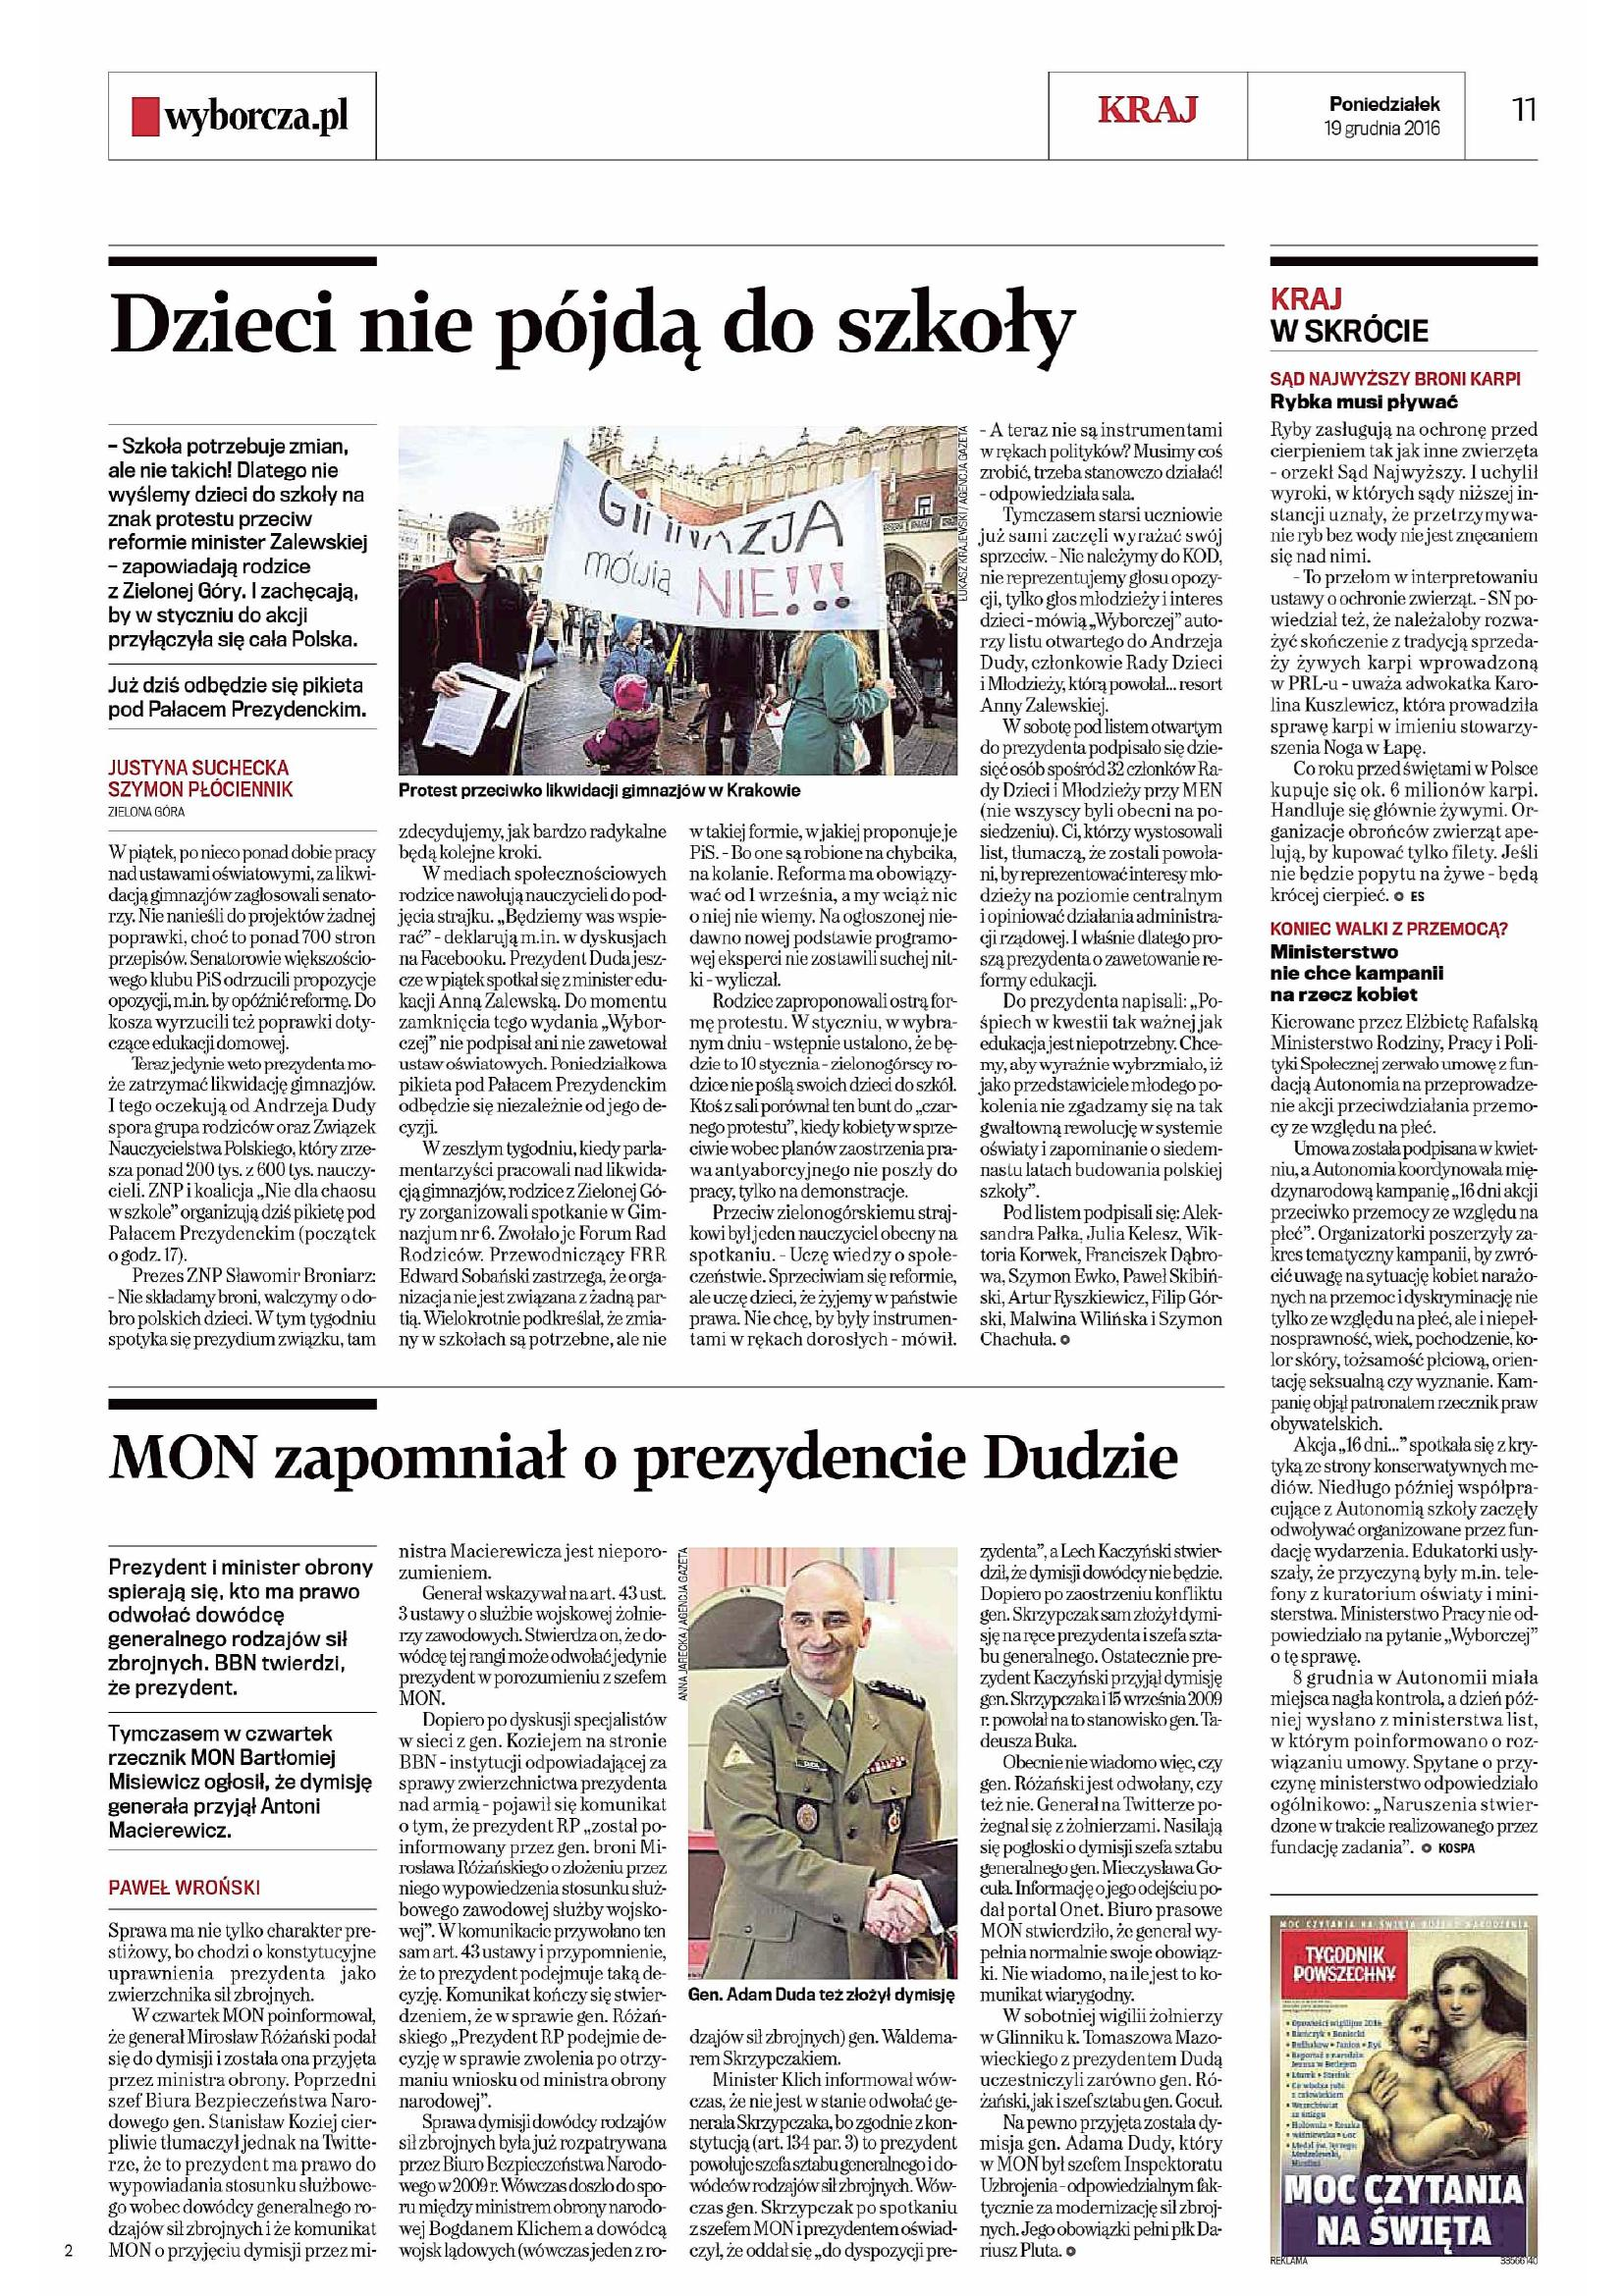article: (98, 248, 1228, 1362), (97, 1388, 1242, 2275), (1259, 246, 1551, 1868)
